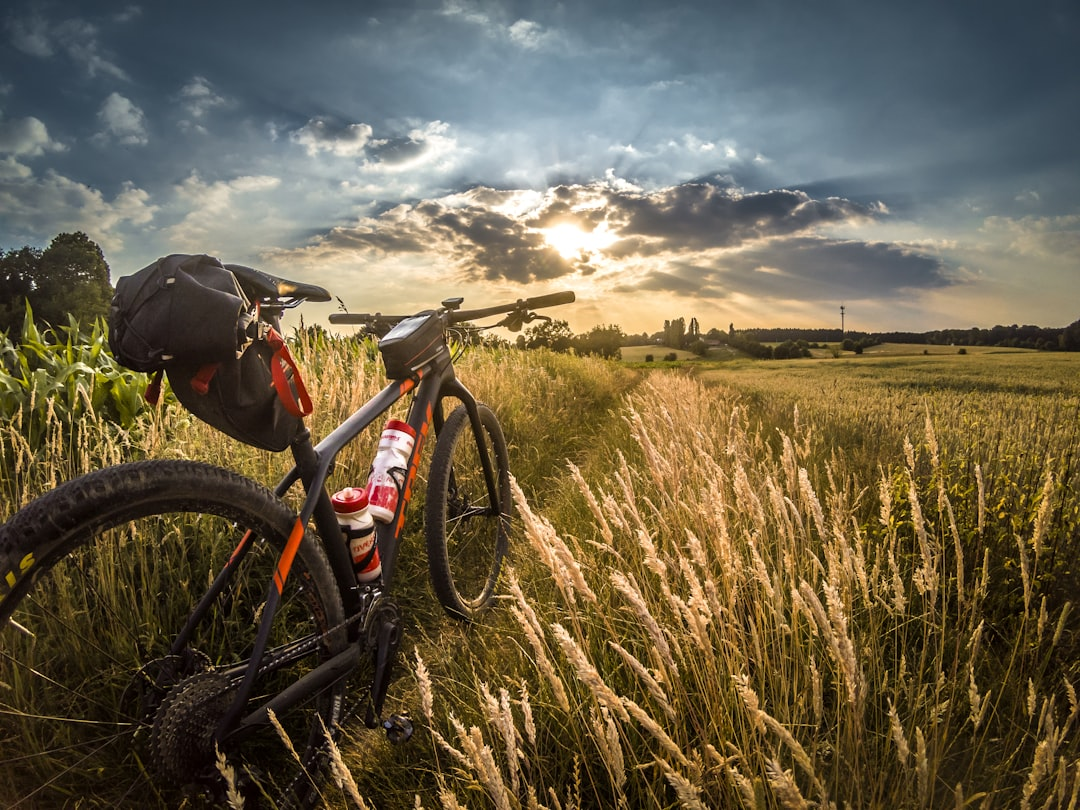bicycle: (0, 256, 517, 810)
